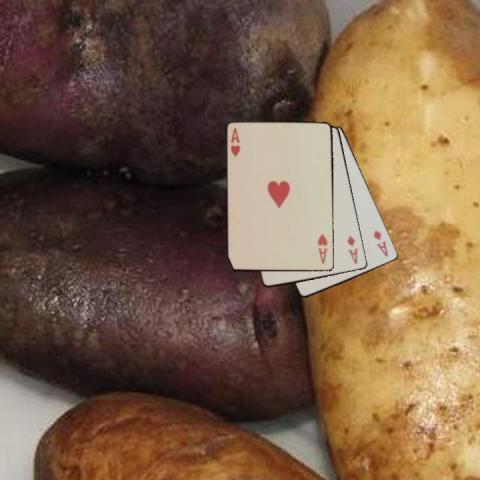Ad: (371, 227, 389, 259), (344, 234, 359, 266)
Ah: (316, 232, 330, 266), (228, 125, 242, 158)
